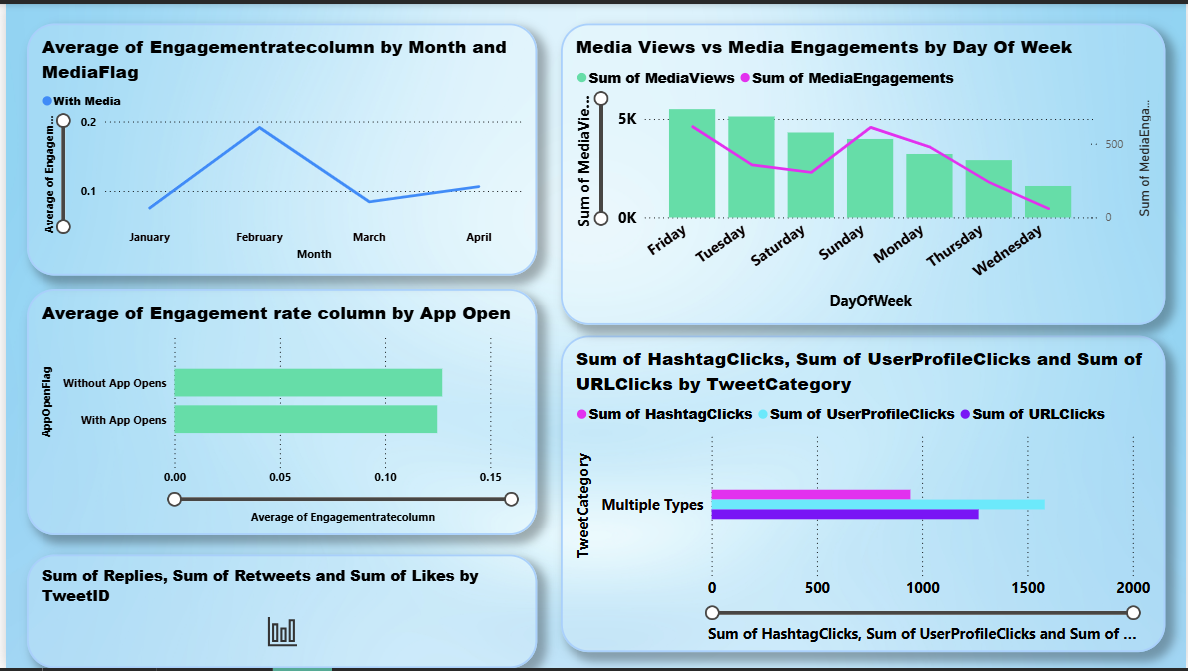

What the dashboard file says about the page in this screenshot:
{"tool":"powerbi","page":{"name":"Page 2","canvas":[1280,720],"ordinal":1},"visuals":[{"type":"clusteredBarChart","fields":{"Category":["TwitterData.TweetCategory"],"Y":["Sum(TwitterData.HashtagClicks)","Sum(TwitterData.UserProfileClicks)","Sum(TwitterData.URLClicks)"]},"box":[601.7,360,655,343.3],"z":0},{"type":"lineClusteredColumnComboChart","title":"Media Views vs Media Engagements by Day Of Week","fields":{"Category":["TwitterData.DayOfWeek"],"Y":["Sum(TwitterData.MediaViews)"],"Y2":["Sum(TwitterData.MediaEngagements)"]},"box":[601.7,21.7,655,326.7],"z":1000},{"type":"columnChart","fields":{"Category":["TwitterData.TweetID"],"Y":["Sum(TwitterData.Replies)","Sum(TwitterData.Retweets)","Sum(TwitterData.Likes)"]},"box":[23.3,596.7,553.3,123.3],"z":2000},{"type":"lineChart","fields":{"Category":["TwitterData.TweetDate.Variation.Date Hierarchy.Month"],"Y":["Avg(TwitterData.Engagementratecolumn)"],"Series":["TwitterData.MediaFlag"]},"box":[23.3,21.7,553.3,273.3],"z":3000},{"type":"barChart","title":"Average of Engagement rate column by App Open","fields":{"Y":["Avg(TwitterData.Engagementratecolumn)"],"Category":["TwitterData.AppOpenFlag"]},"box":[23.3,308.3,553.3,266.7],"z":3001}]}

Visuals, with their boxes in screenshot pixels (x1, y1, x2, y2), scaled from the page's 1280x720 canvas onto the 1188x671 screenshot:
clusteredBarChart - TwitterData.TweetCategory x Sum(TwitterData.HashtagClicks): Rect(558, 336, 1166, 655)
"Media Views vs Media Engagements by Day Of Week" lineClusteredColumnComboChart: Rect(558, 20, 1166, 325)
columnChart - TwitterData.TweetID x Sum(TwitterData.Replies): Rect(22, 556, 535, 670)
lineChart - TwitterData.TweetDate.Variation.Date Hierarchy.Month x Avg(TwitterData.Engagementratecolumn): Rect(22, 20, 535, 275)
"Average of Engagement rate column by App Open" barChart: Rect(22, 287, 535, 536)
